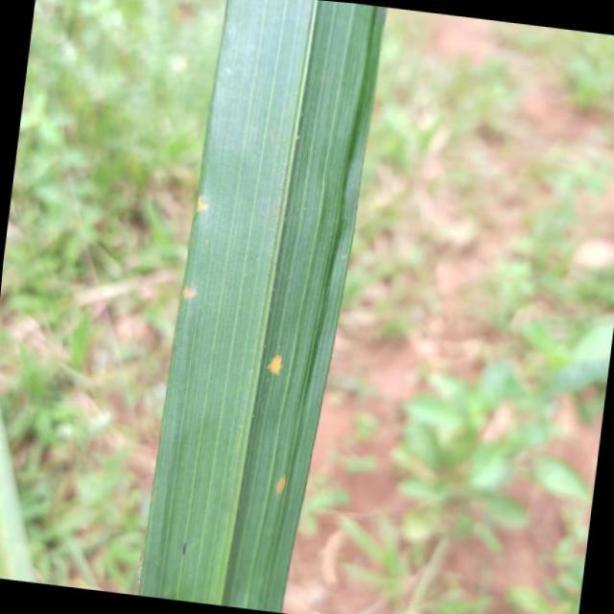Kalium: (138, 0, 389, 614)
